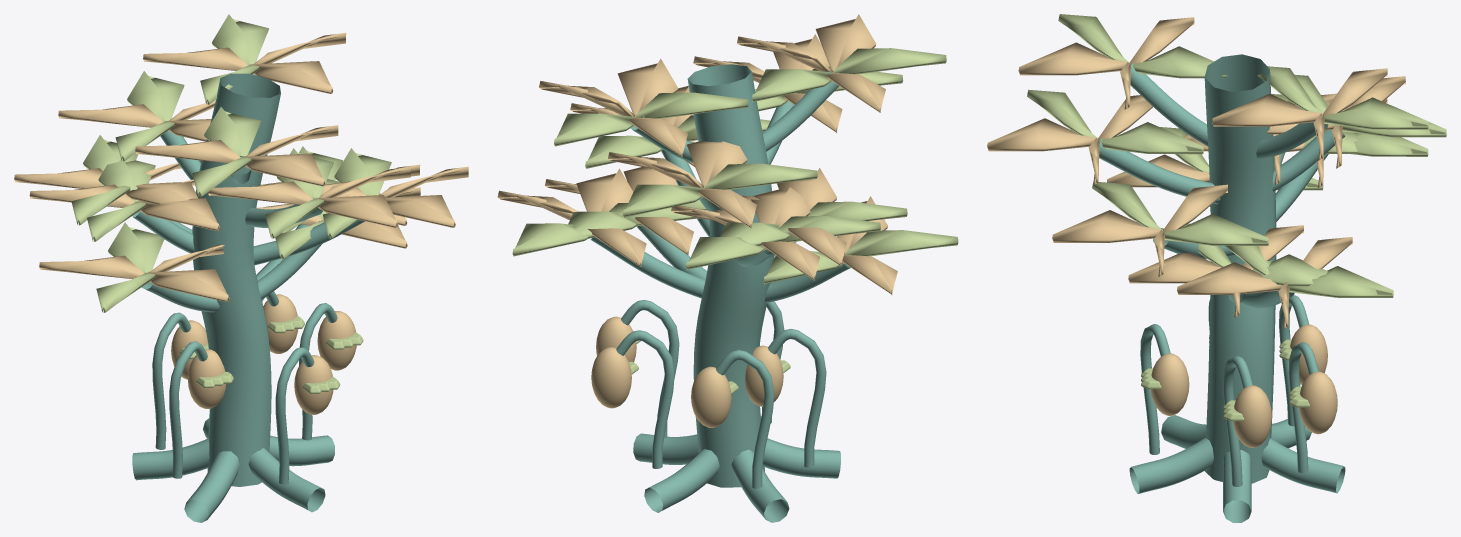
Rendered from bio_canopy_tree_23_near.glb.
The picture shows the model from 3 angles, left to right: view 1: azimuth 30°, elevation 25°; view 2: azimuth 150°, elevation 25°; view 3: azimuth 270°, elevation 25°; orthographic projection. The views are drawn at different scales.
Parts seen in each view (by area): view 1: Buttressed trunk, Broad canopy leaf.035, Broad canopy leaf.010, Broad canopy leaf.015, Broad canopy leaf.020, Broad canopy leaf.005, Broad canopy leaf.045, Broad canopy leaf.036, Broad canopy leaf.025, Broad canopy leaf.021, Broad canopy leaf.031, Broad canopy leaf.030 (+16 smaller); view 2: Buttressed trunk, Broad canopy leaf.035, Broad canopy leaf.015, Broad canopy leaf.030, Broad canopy leaf.016, Broad canopy leaf.031, Broad canopy leaf.036, Broad canopy leaf.040, Broad canopy leaf.005, Broad canopy leaf.006, Broad canopy leaf.021, Broad canopy leaf.046 (+17 smaller); view 3: Buttressed trunk, Broad canopy leaf.035, Broad canopy leaf.015, Broad canopy leaf.025, Broad canopy leaf.010, Broad canopy leaf.026, Broad canopy leaf.011, Broad canopy leaf.040, Broad canopy leaf.016, Broad canopy leaf.036, Broad canopy leaf, Broad canopy leaf.041 (+14 smaller).
Boxes of the visible parts, left/top/right/bottom form: Buttressed trunk: left=132, top=73, right=364, bottom=522; Broad canopy leaf.035: left=135, top=125, right=338, bottom=186; Broad canopy leaf.010: left=208, top=166, right=410, bottom=227; Broad canopy leaf.015: left=143, top=33, right=346, bottom=93; Broad canopy leaf.020: left=39, top=244, right=229, bottom=302; Broad canopy leaf.005: left=14, top=160, right=201, bottom=204; Broad canopy leaf.045: left=29, top=179, right=219, bottom=230; Broad canopy leaf.036: left=192, top=107, right=261, bottom=197; Broad canopy leaf.025: left=321, top=166, right=468, bottom=227; Broad canopy leaf.021: left=96, top=222, right=164, bottom=312; Broad canopy leaf.031: left=115, top=71, right=184, bottom=161; Broad canopy leaf.030: left=58, top=100, right=215, bottom=141; Buttressed trunk: left=590, top=64, right=850, bottom=522; Broad canopy leaf.035: left=737, top=14, right=885, bottom=112; Broad canopy leaf.015: left=539, top=58, right=687, bottom=157; Broad canopy leaf.030: left=608, top=140, right=756, bottom=228; Broad canopy leaf.016: left=554, top=92, right=748, bottom=146; Broad canopy leaf.031: left=623, top=163, right=817, bottom=217; Broad canopy leaf.036: left=752, top=48, right=946, bottom=101; Broad canopy leaf.040: left=497, top=168, right=646, bottom=267; Broad canopy leaf.005: left=671, top=187, right=819, bottom=281; Broad canopy leaf.006: left=686, top=216, right=880, bottom=269; Broad canopy leaf.021: left=763, top=230, right=958, bottom=284; Broad canopy leaf.046: left=720, top=201, right=907, bottom=245; Buttressed trunk: left=1099, top=54, right=1345, bottom=522; Broad canopy leaf.035: left=1018, top=17, right=1194, bottom=109; Broad canopy leaf.015: left=1212, top=68, right=1387, bottom=160; Broad canopy leaf.025: left=1052, top=184, right=1227, bottom=276; Broad canopy leaf.010: left=987, top=95, right=1152, bottom=185; Broad canopy leaf.026: left=1092, top=182, right=1268, bottom=245; Broad canopy leaf.011: left=1027, top=89, right=1203, bottom=154; Broad canopy leaf.040: left=1177, top=237, right=1352, bottom=329; Broad canopy leaf.016: left=1257, top=66, right=1428, bottom=129; Broad canopy leaf.036: left=1058, top=14, right=1227, bottom=78; Broad canopy leaf: left=1128, top=225, right=1303, bottom=317; Broad canopy leaf.041: left=1224, top=245, right=1393, bottom=297.
Size of the model in its own units: 3.06 by 3.05 by 3.05.
